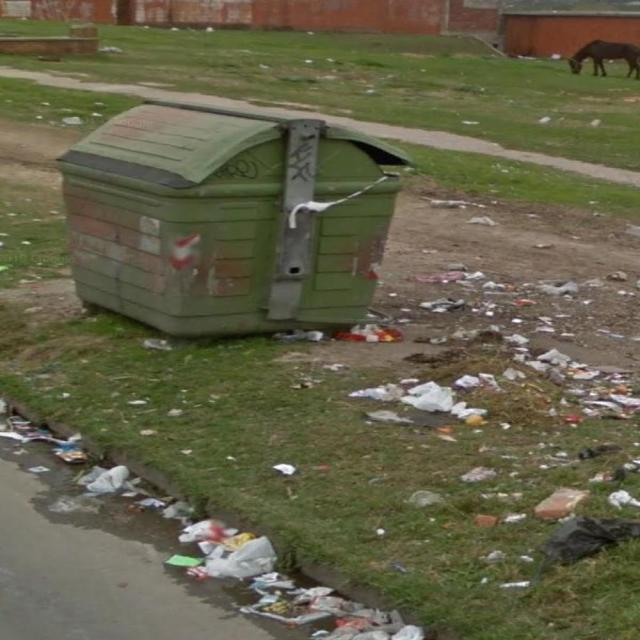garbage: (1, 411, 132, 500), (527, 481, 639, 581), (347, 358, 482, 436), (154, 514, 266, 604), (536, 345, 634, 433), (264, 582, 406, 640), (270, 317, 417, 345), (417, 283, 466, 315)
